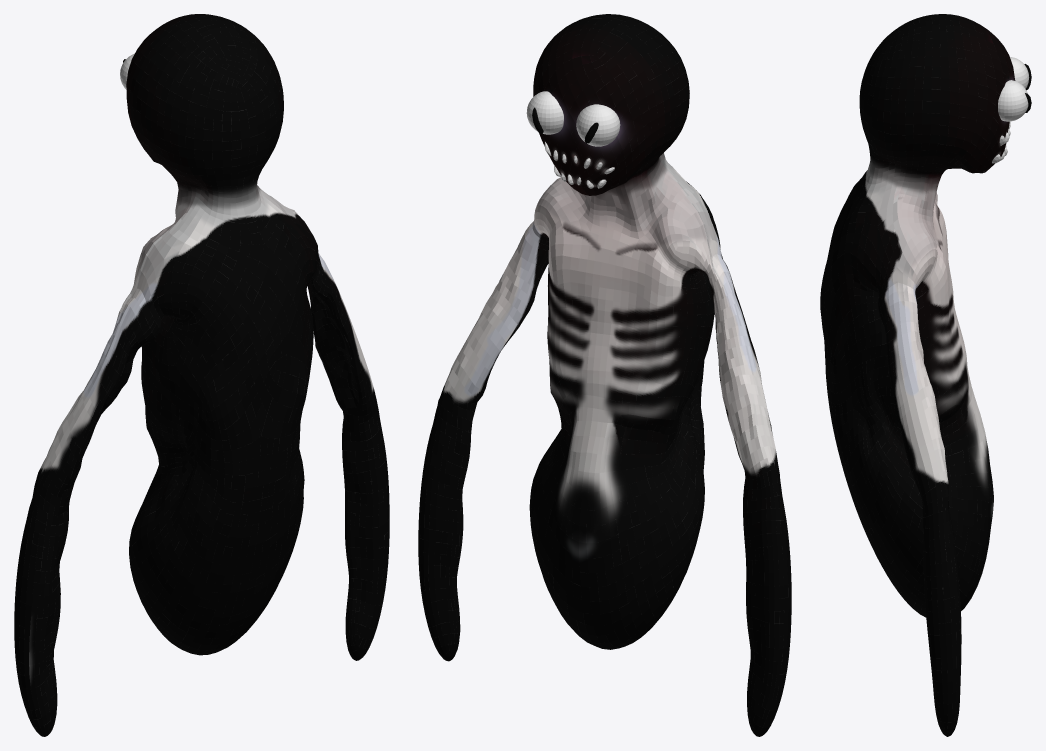
File: monstr (3).fbx
The picture shows the model from 3 angles, left to right: view 1: azimuth 30°, elevation 25°; view 2: azimuth 150°, elevation 25°; view 3: azimuth 270°, elevation 25°; orthographic projection. The views are drawn at different scales.
Visible parts, largest first — view 1: Retopo_Icosphere.001; view 2: Retopo_Icosphere.001, Sphere; view 3: Retopo_Icosphere.001, Sphere.
Part boxes in pixels (x1=…): Retopo_Icosphere.001: x1=14, y1=14, x2=389, y2=736; Retopo_Icosphere.001: x1=418, y1=14, x2=791, y2=736; Sphere: x1=526, y1=91, x2=620, y2=146; Retopo_Icosphere.001: x1=820, y1=14, x2=1015, y2=736; Sphere: x1=998, y1=57, x2=1029, y2=121.
Bounding box in the file's own units: 701 × 1230 × 367.
3 materials, 1 textured.
